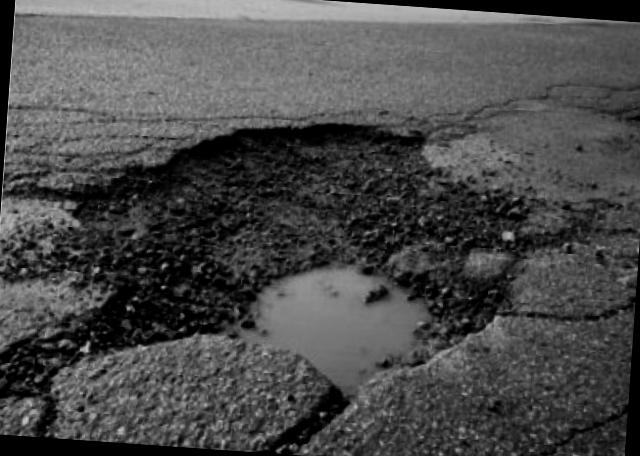Pothole: (0, 75, 561, 456)
